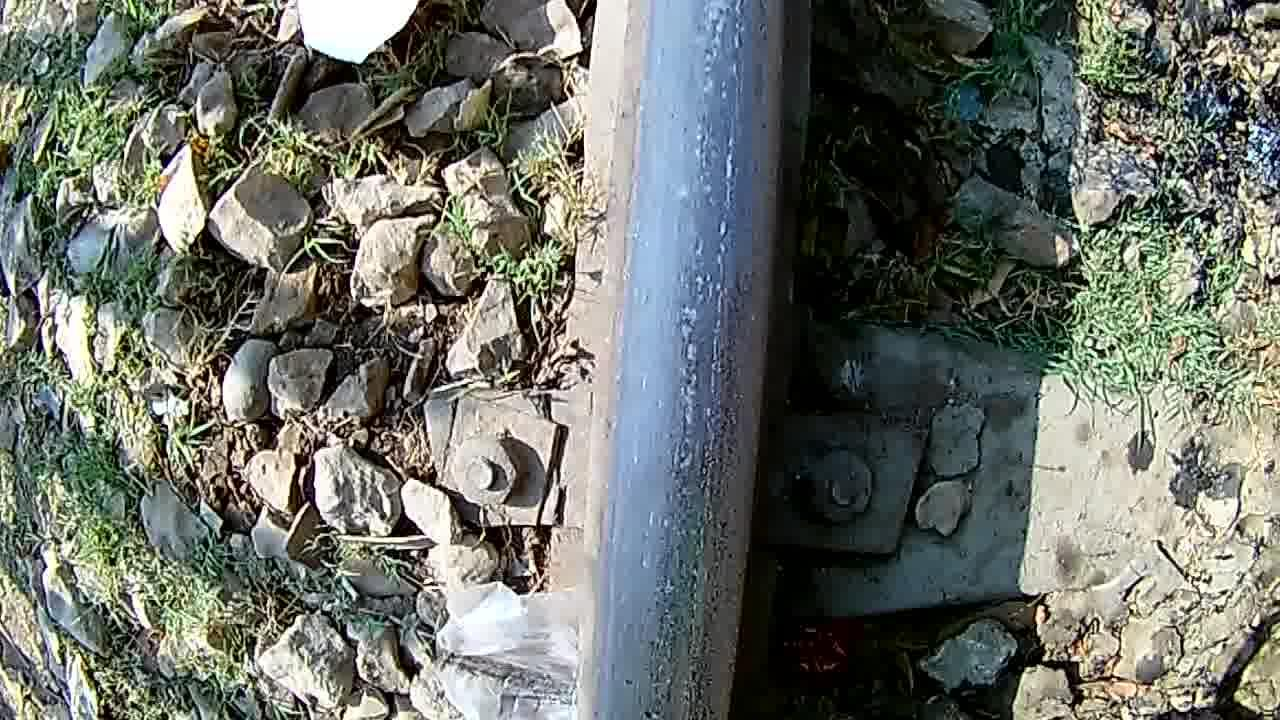clip_missing: (616, 2, 760, 719)
